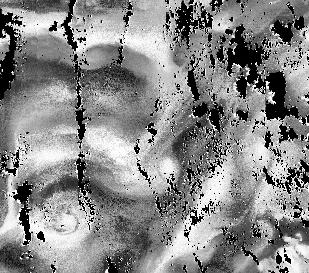CE: (28, 184, 99, 252)
